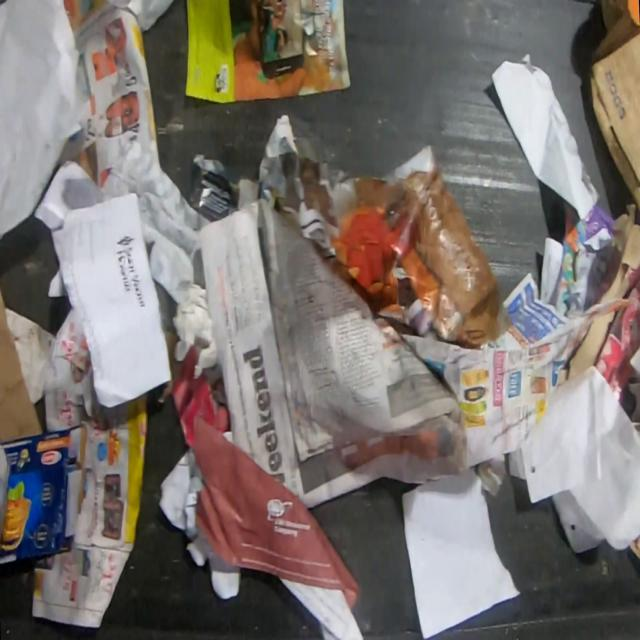cardboard: (565, 202, 639, 408), (0, 420, 88, 565), (588, 0, 639, 217), (0, 282, 44, 444)
